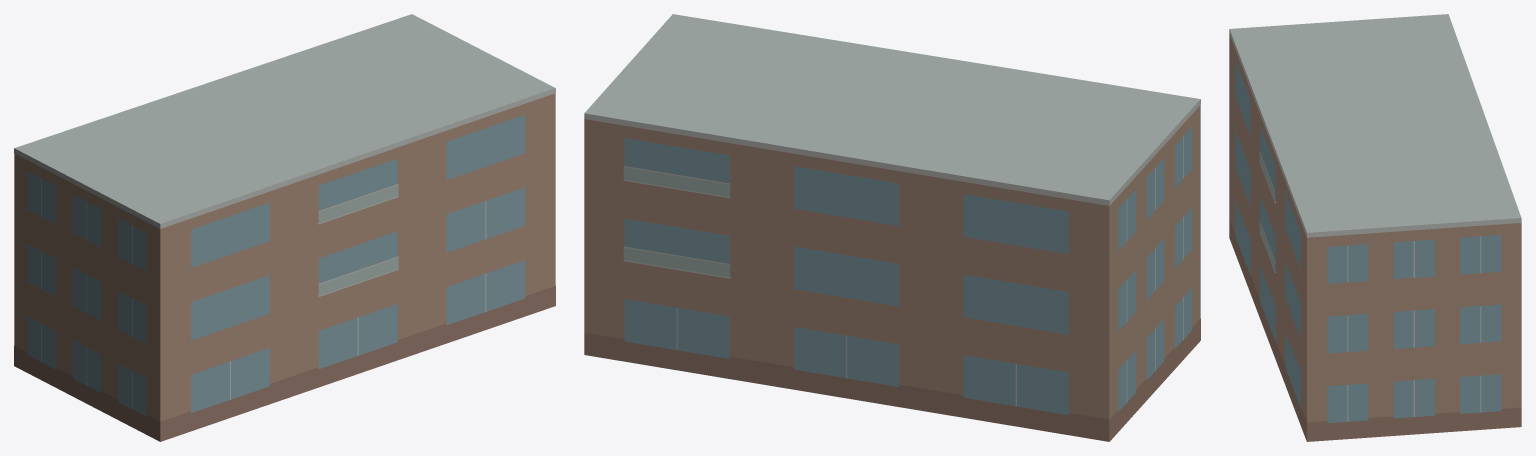
Rendered from survey-upis-32761090.glb.
The picture shows the model from 3 angles, left to right: view 1: azimuth 30°, elevation 25°; view 2: azimuth 150°, elevation 25°; view 3: azimuth 270°, elevation 25°; orthographic projection. The views are drawn at different scales.
Parts seen in each view (by area): view 1: survey-upis-32761090.tmp; view 2: survey-upis-32761090.tmp; view 3: survey-upis-32761090.tmp.
Boxes of the visible parts, left/top/right/bottom form: survey-upis-32761090.tmp: left=14, top=14, right=555, bottom=441; survey-upis-32761090.tmp: left=584, top=14, right=1200, bottom=441; survey-upis-32761090.tmp: left=1229, top=14, right=1521, bottom=441.
Size of the model in its own units: 23.6 by 10.5 by 13.31.
